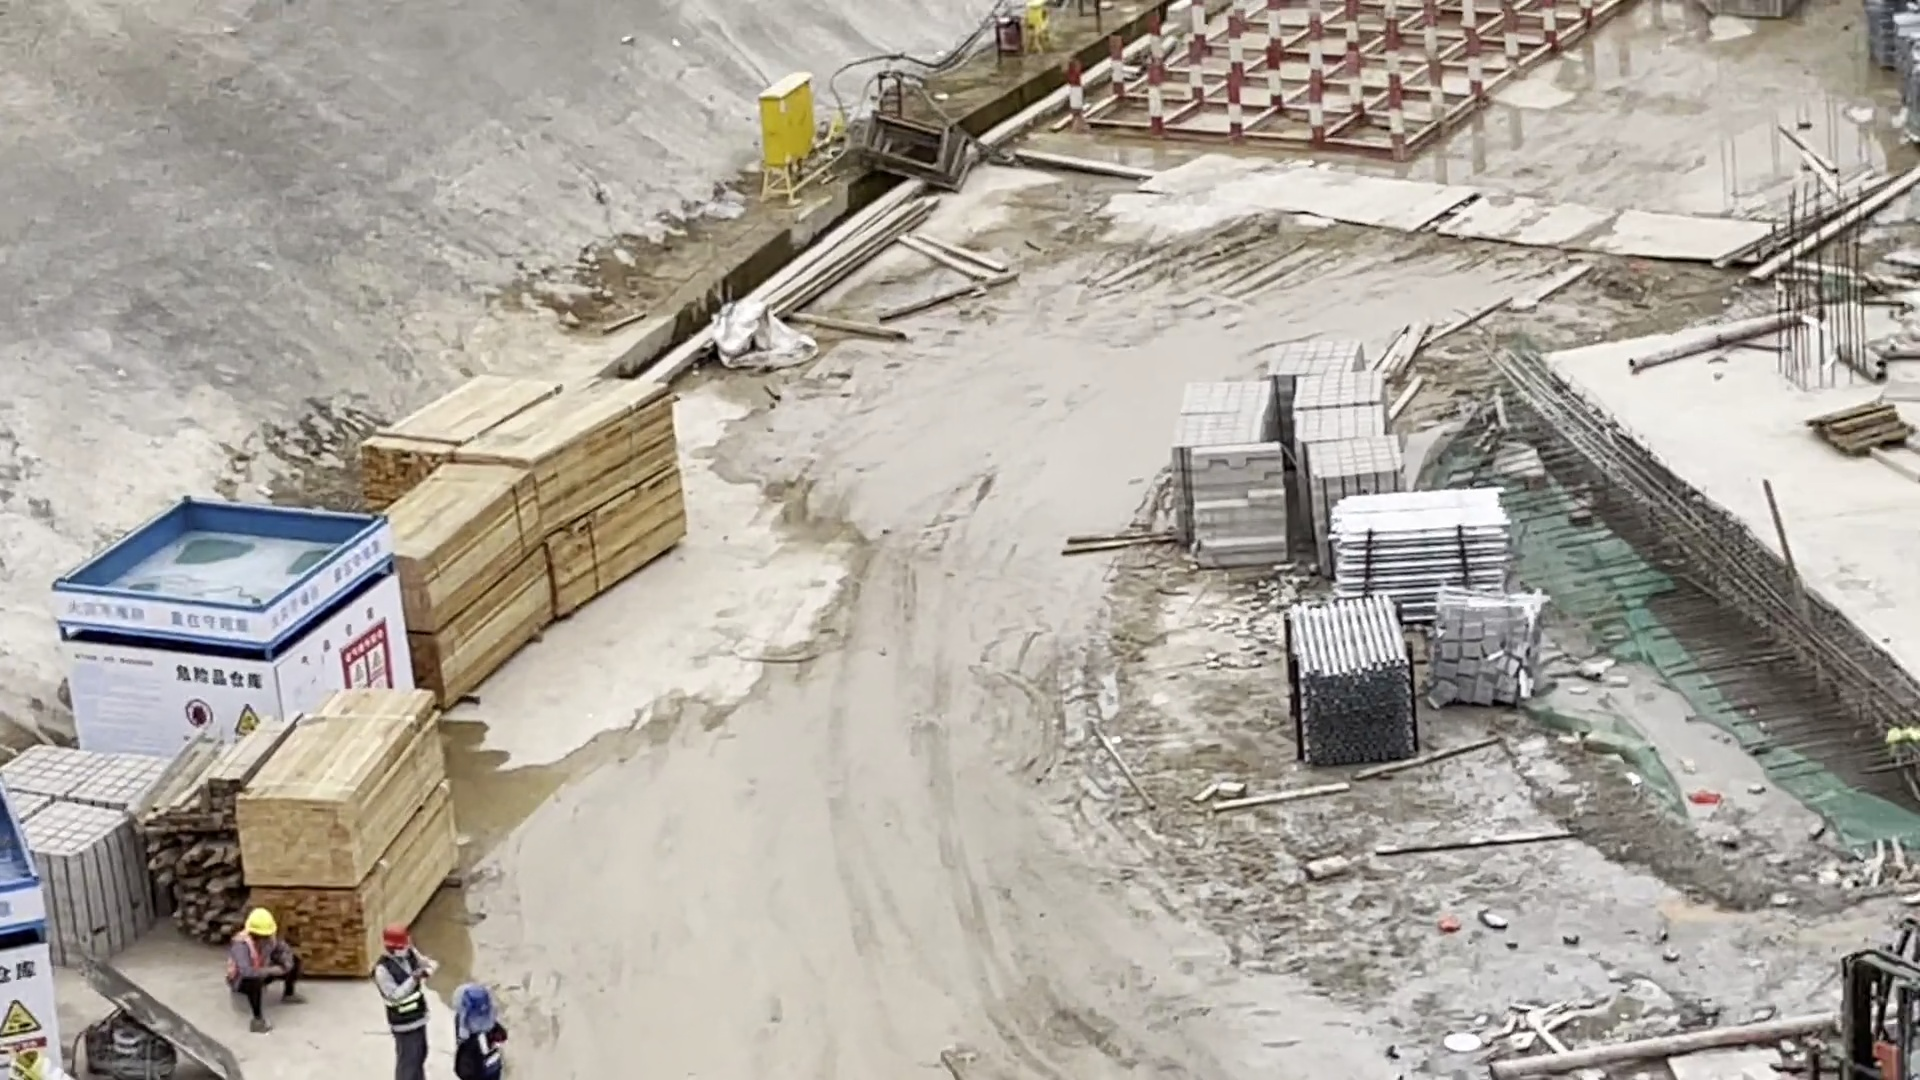brick: (1169, 331, 1413, 565), (4, 738, 172, 978)
ebox: (755, 66, 827, 173), (1024, 1, 1057, 48)
helmet: (446, 981, 502, 1035), (240, 904, 283, 943), (381, 922, 427, 956)
person: (212, 896, 311, 1042), (362, 919, 434, 1080), (442, 968, 510, 1080)
scaffold: (1323, 487, 1529, 632), (1276, 587, 1423, 770), (1849, 4, 1920, 119)
slogan: (261, 581, 453, 730), (38, 554, 296, 657), (63, 638, 280, 754), (253, 505, 399, 630), (1, 878, 81, 1077)
vest: (367, 950, 440, 1043), (438, 1018, 520, 1080), (219, 932, 295, 985)
wood: (360, 362, 717, 696), (144, 723, 469, 982)
